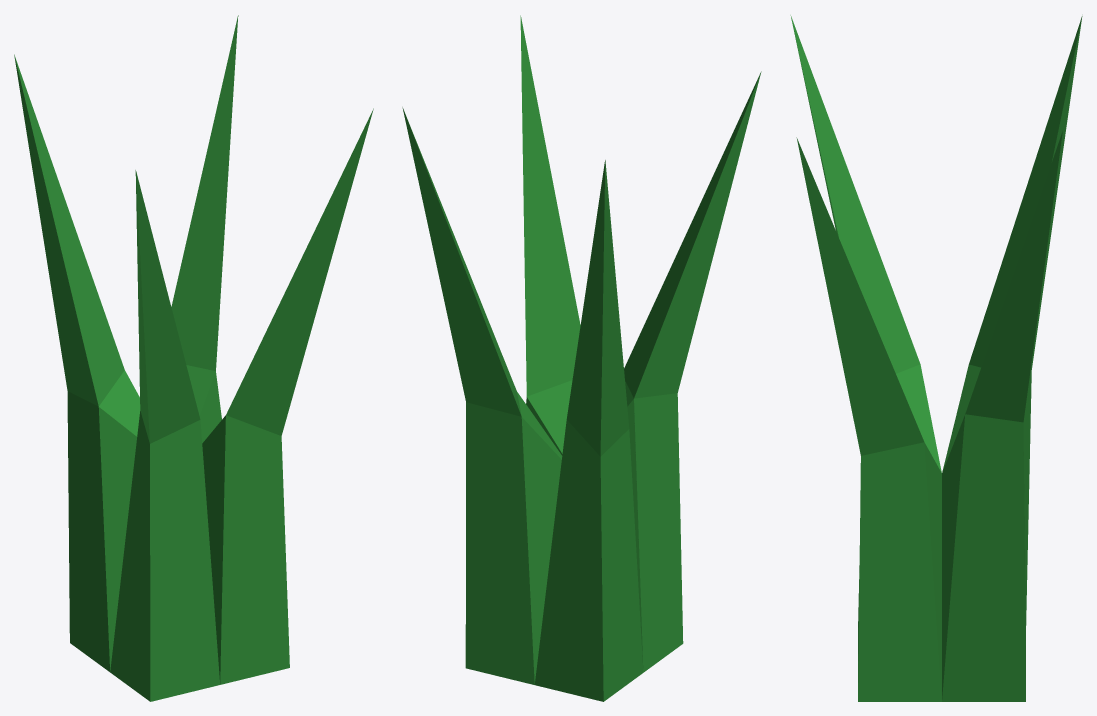
The model's file is Grass_6_Green.fbx.
The picture shows the model from 3 angles, left to right: view 1: azimuth 30°, elevation 25°; view 2: azimuth 150°, elevation 25°; view 3: azimuth 270°, elevation 25°; orthographic projection. The views are drawn at different scales.
Parts seen in each view (by area): view 1: Grass_6_Green; view 2: Grass_6_Green; view 3: Grass_6_Green.
Boxes of the visible parts, <box> form: Grass_6_Green: <box>14,15,373,701</box>; Grass_6_Green: <box>402,15,761,701</box>; Grass_6_Green: <box>790,15,1082,701</box>.
Bounding box in the file's own units: 17.29 × 39.51 × 17.38.
